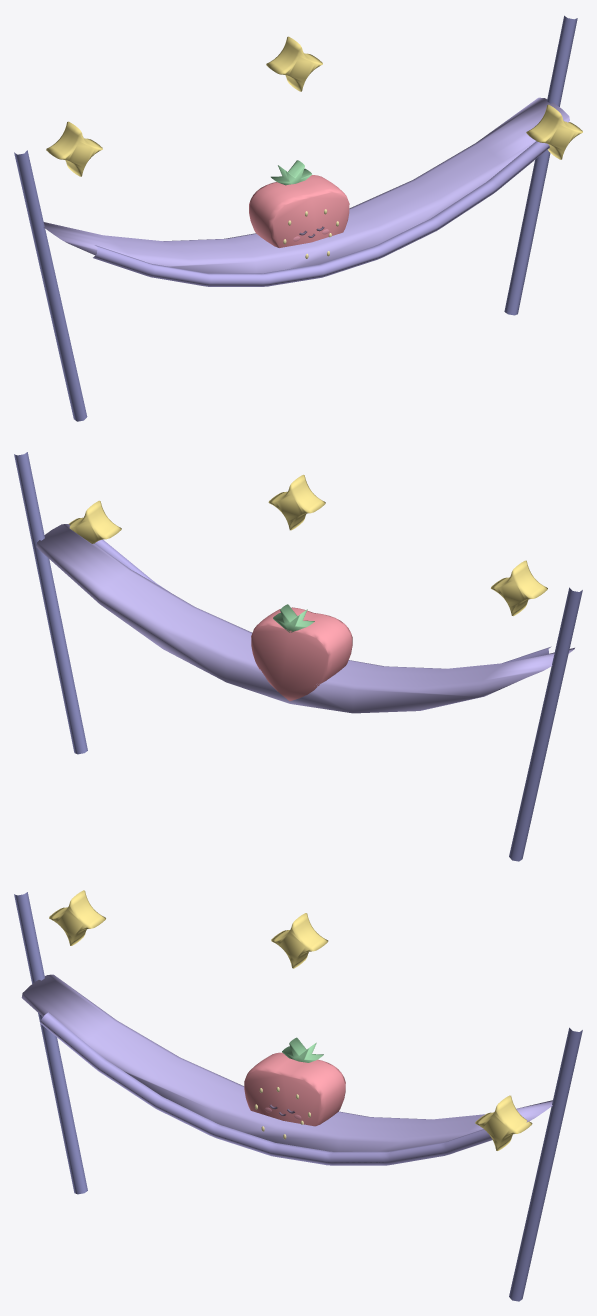
File: decor_4_star.glb
3 renders of one model, top to bottom at view 1: azimuth 30°, elevation 25°; view 2: azimuth 150°, elevation 25°; view 3: azimuth 330°, elevation 25°, orthographic.
Parts seen in each view (by area): view 1: decor_4_star; view 2: decor_4_star; view 3: decor_4_star.
Boxes of the visible parts, x1,y1,x2,y2 form: decor_4_star: (14, 15, 582, 421); decor_4_star: (14, 452, 582, 861); decor_4_star: (14, 890, 582, 1301).
Bounding box in the file's own units: 18.74 × 10.41 × 2.53.
